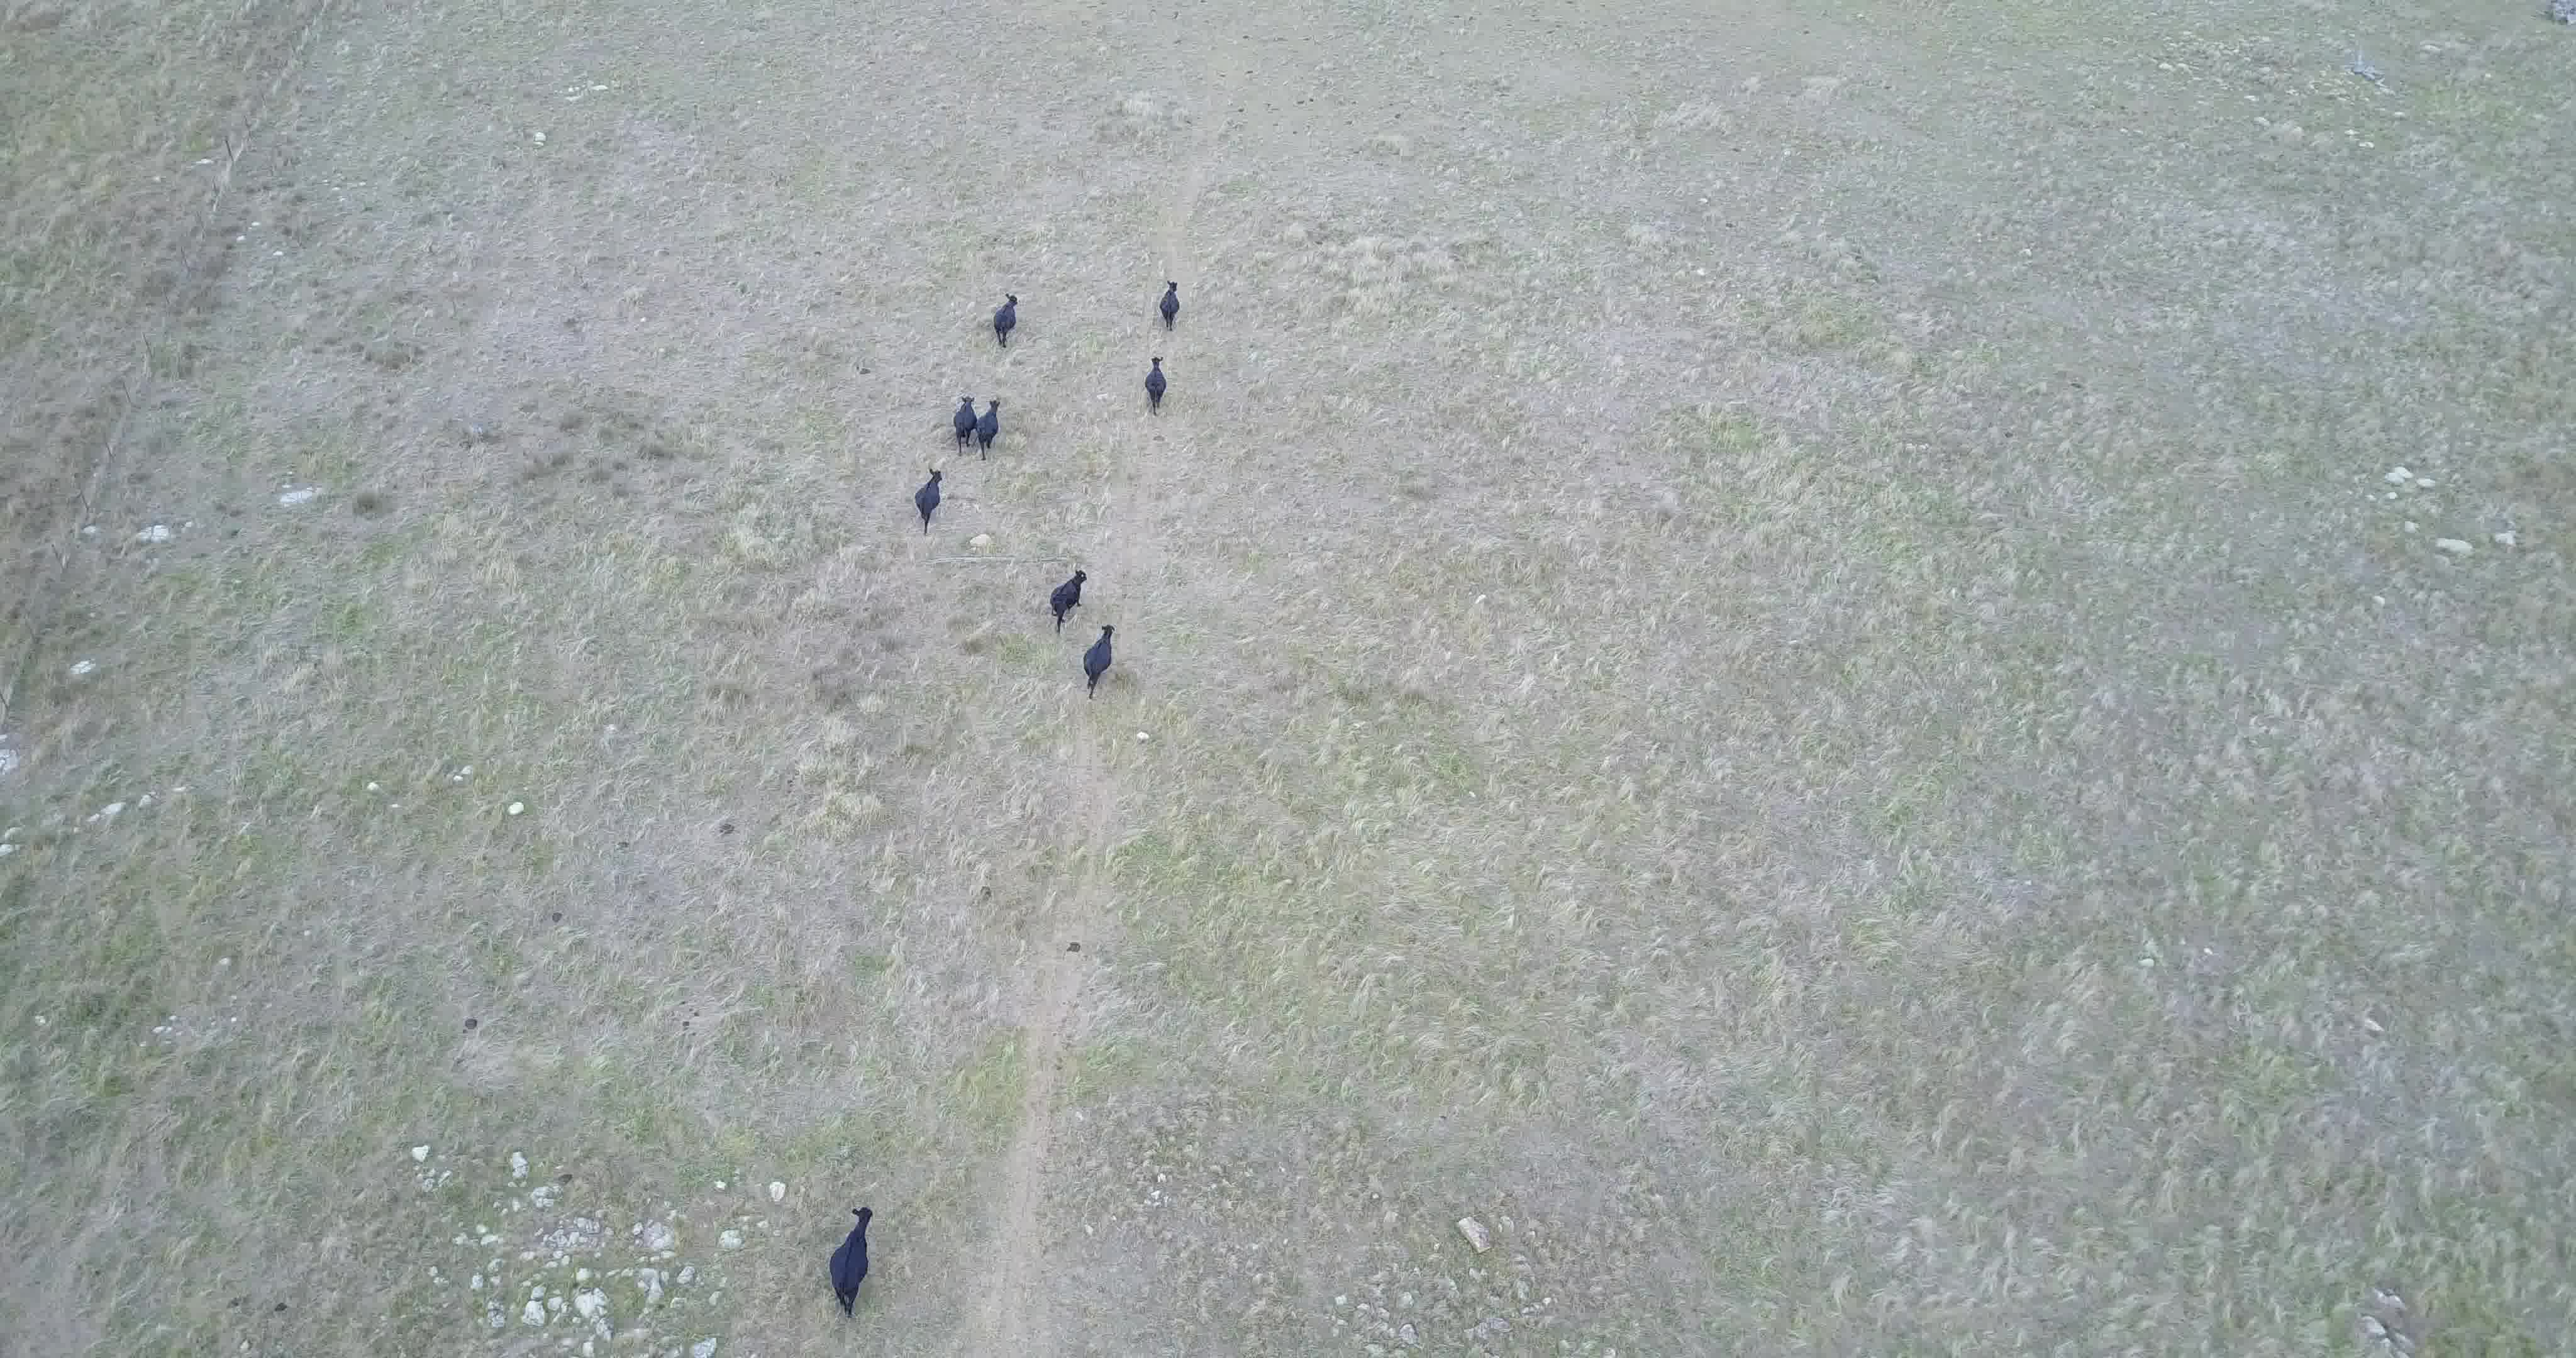cattle: (826, 1201, 874, 1322), (1077, 624, 1119, 704), (1048, 567, 1089, 637), (911, 467, 946, 540), (990, 290, 1022, 353), (949, 392, 976, 460), (975, 395, 1002, 463), (1143, 353, 1169, 417), (1157, 278, 1182, 334)
